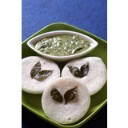idly: (41, 75, 90, 123), (64, 60, 106, 92), (22, 57, 60, 92)
